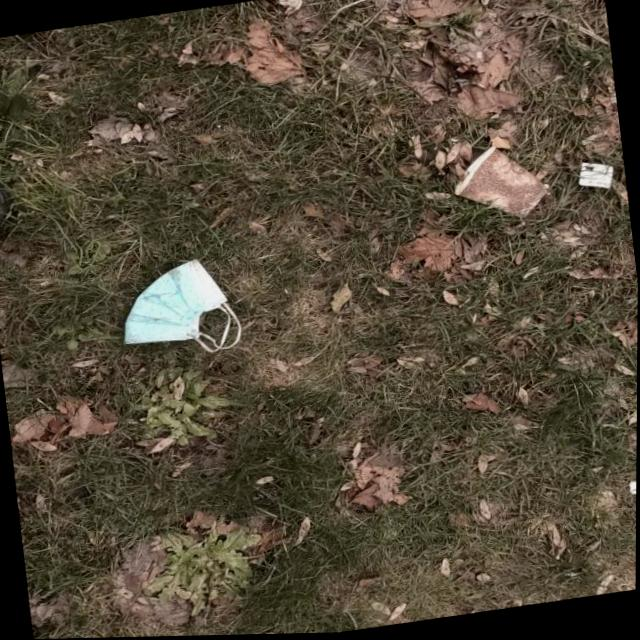Cup: (448, 138, 554, 225)
Mask: (114, 256, 244, 367)
